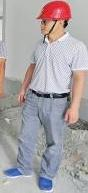boots: (2, 167, 32, 178), (0, 127, 7, 134)
hard-hat: (35, 0, 69, 20)
